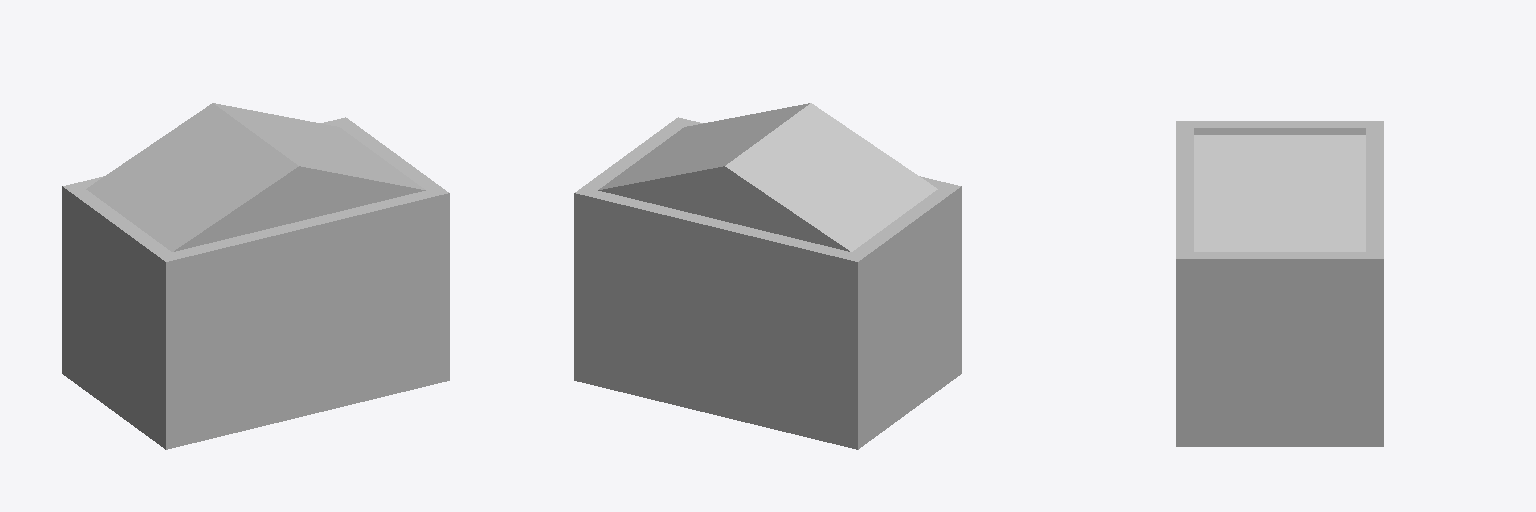
The model's file is AngledRoofHouse.obj.
3 views of the same model, side by side, from view 1: azimuth 30°, elevation 25°; view 2: azimuth 150°, elevation 25°; view 3: azimuth 270°, elevation 25° (orthographic).
Visible parts, largest first — view 1: Cube; view 2: Cube; view 3: Cube.
Part boxes in pixels (x1,y1,x2,y2): Cube: (62, 103, 449, 449); Cube: (574, 103, 961, 449); Cube: (1176, 121, 1383, 446).
Bounding box in the file's own units: 3.16 × 2.59 × 2.